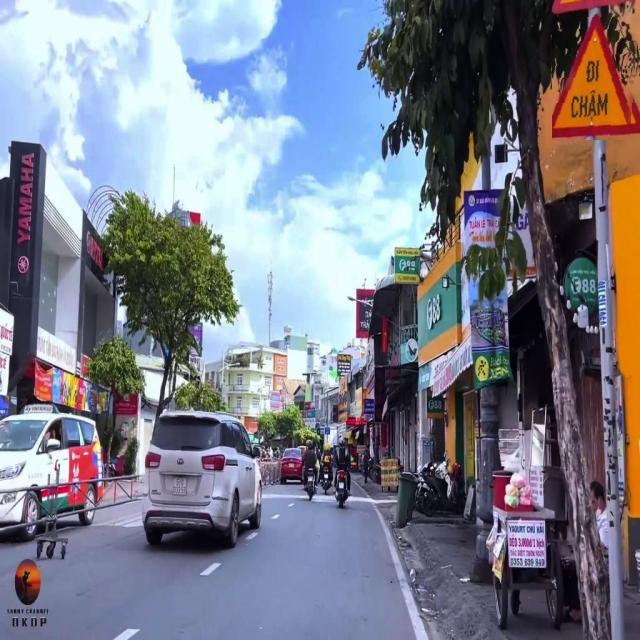di_cham: (552, 10, 640, 140)
